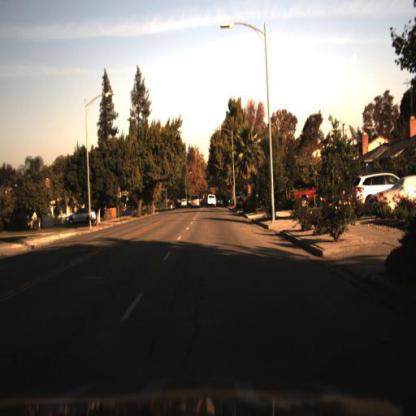car: (351, 171, 406, 219), (289, 182, 323, 216), (67, 208, 102, 225), (190, 194, 204, 210), (179, 195, 191, 210), (207, 193, 218, 209)
